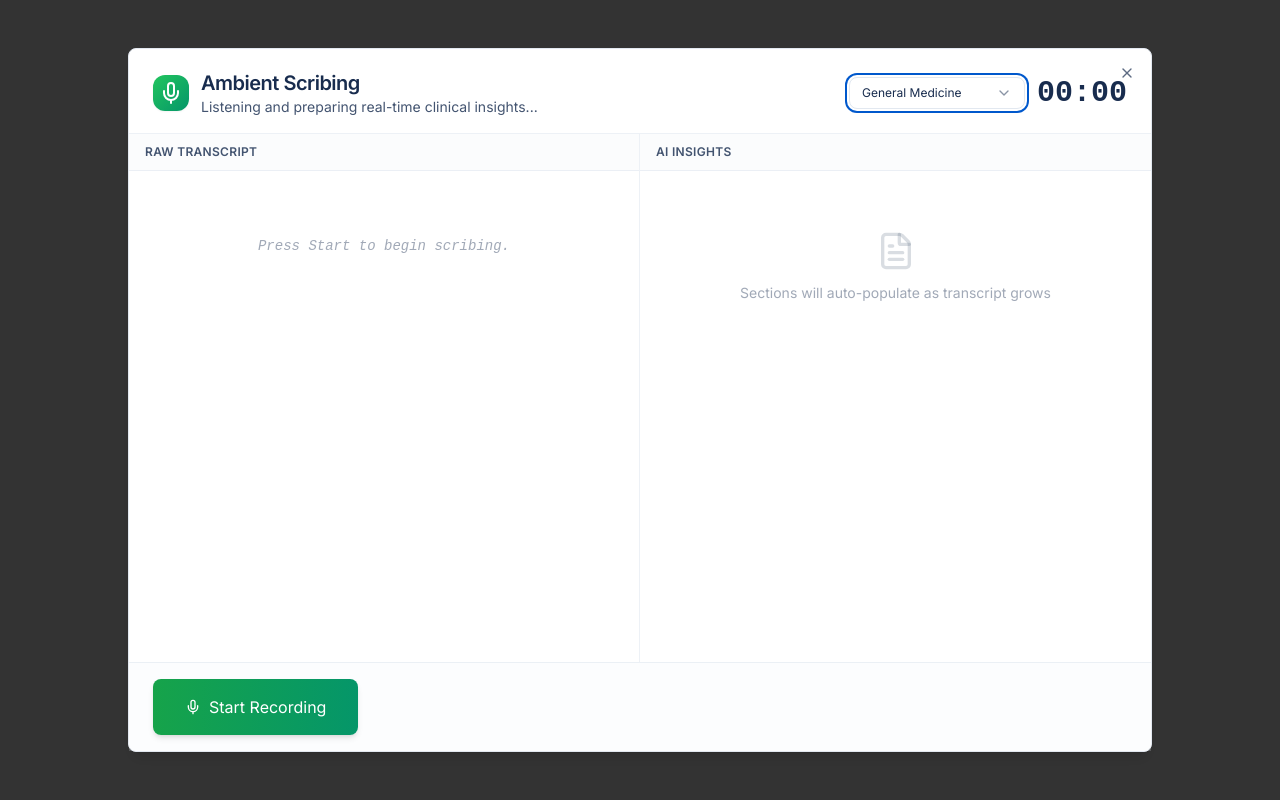
it: ScribingModal › Re-record clears transcript, timer, and structured sections
Click the button "Start Recording": (256, 707) [153,679,358,735]
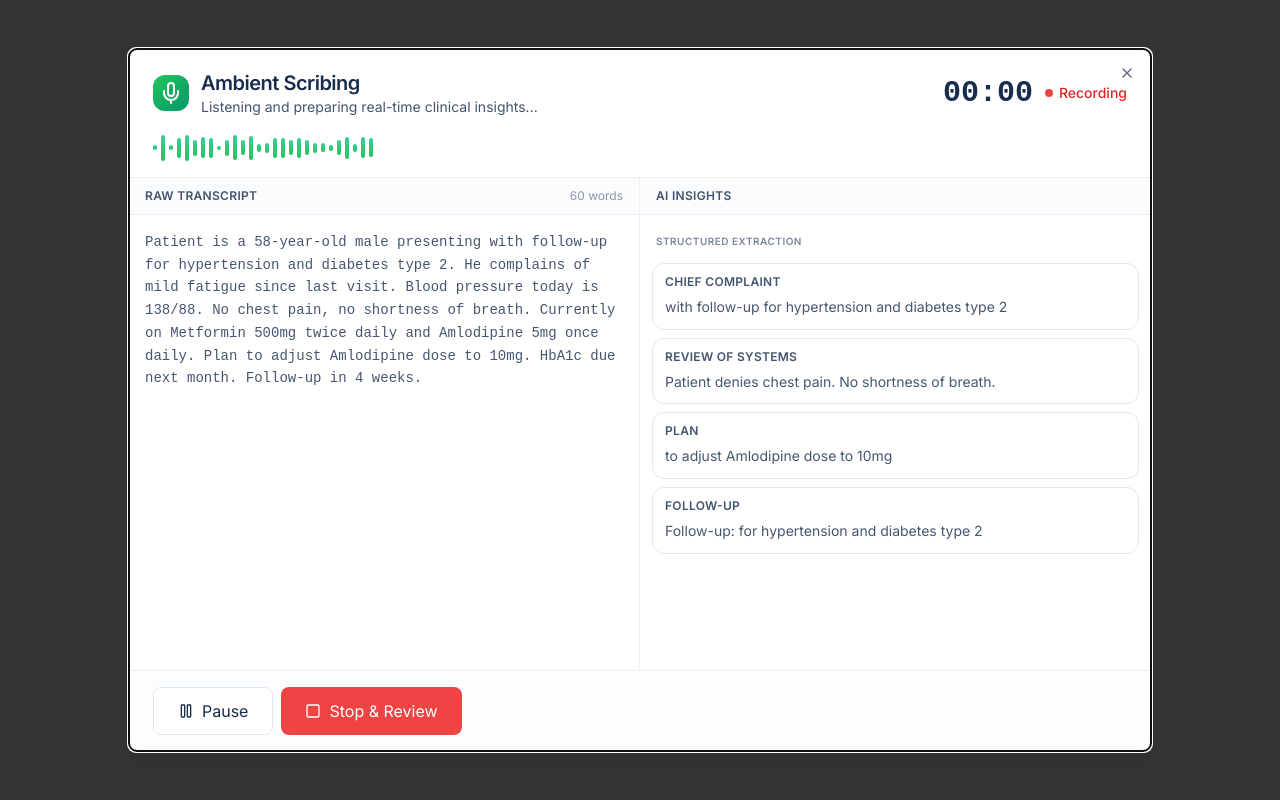
Now the text "58-year-old male" is shown, box [145,234,624,386]
Note: Stop & Review
Click the button "Stop & Review": (371, 711) [281,687,462,735]
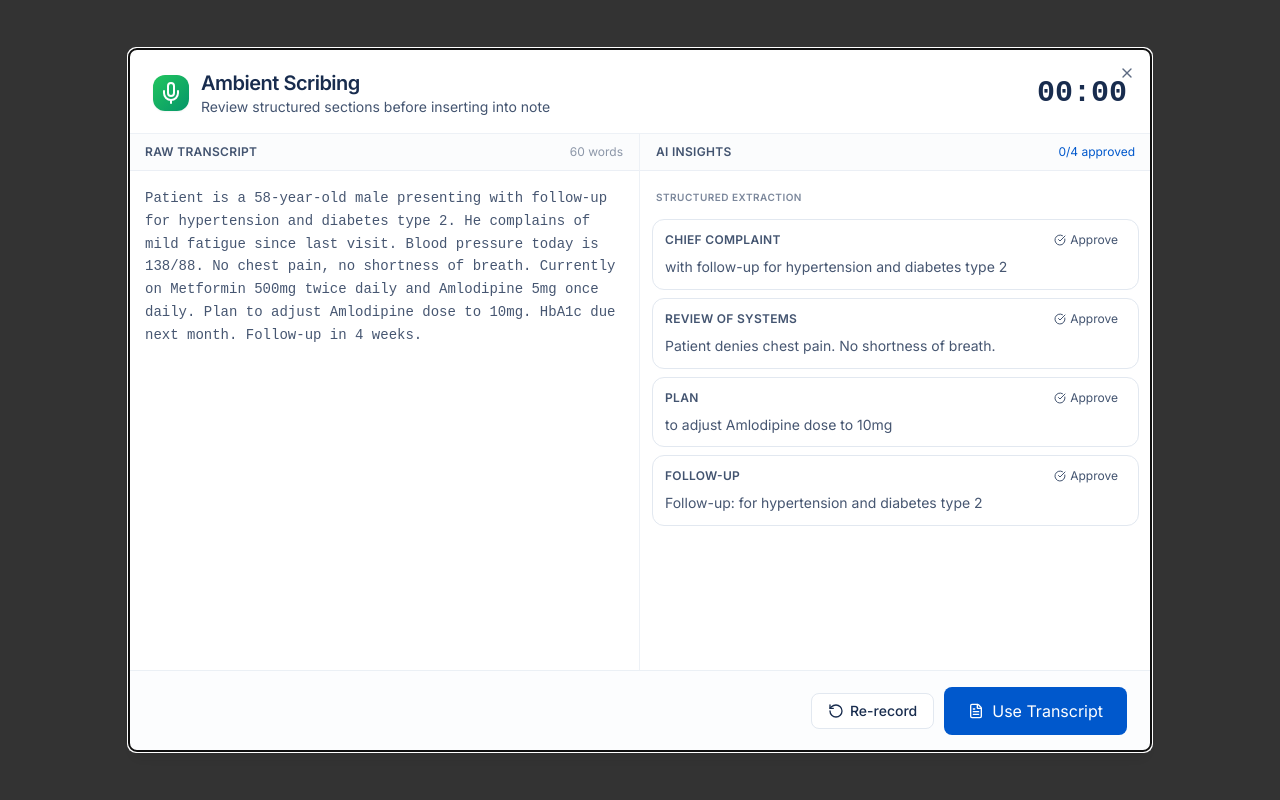
Now the button "Re-record" is shown
Click the button "Re-record": (873, 711) [811,693,934,729]
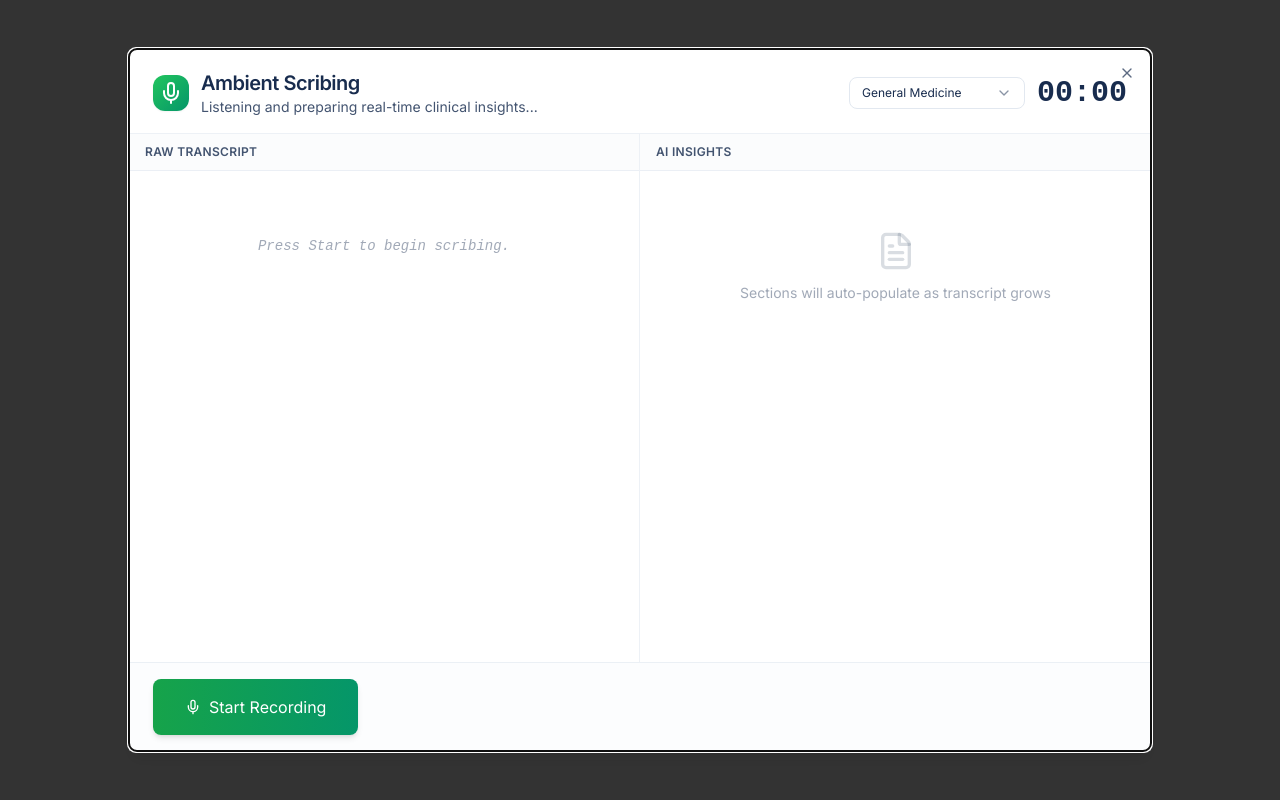
Expected: the text "00:00" is shown, [1037,75,1127,111]
Now the text "58-year-old male" is gone
Now the button "Start Recording" is shown, box [153,679,358,735]
